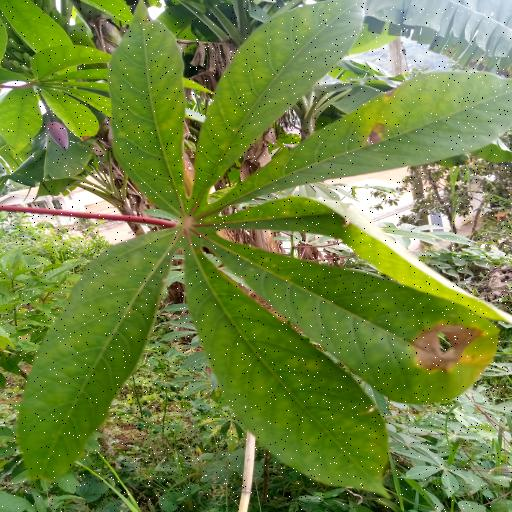Cassava_Brown_Leaf_Spot: (21, 1, 512, 497)
